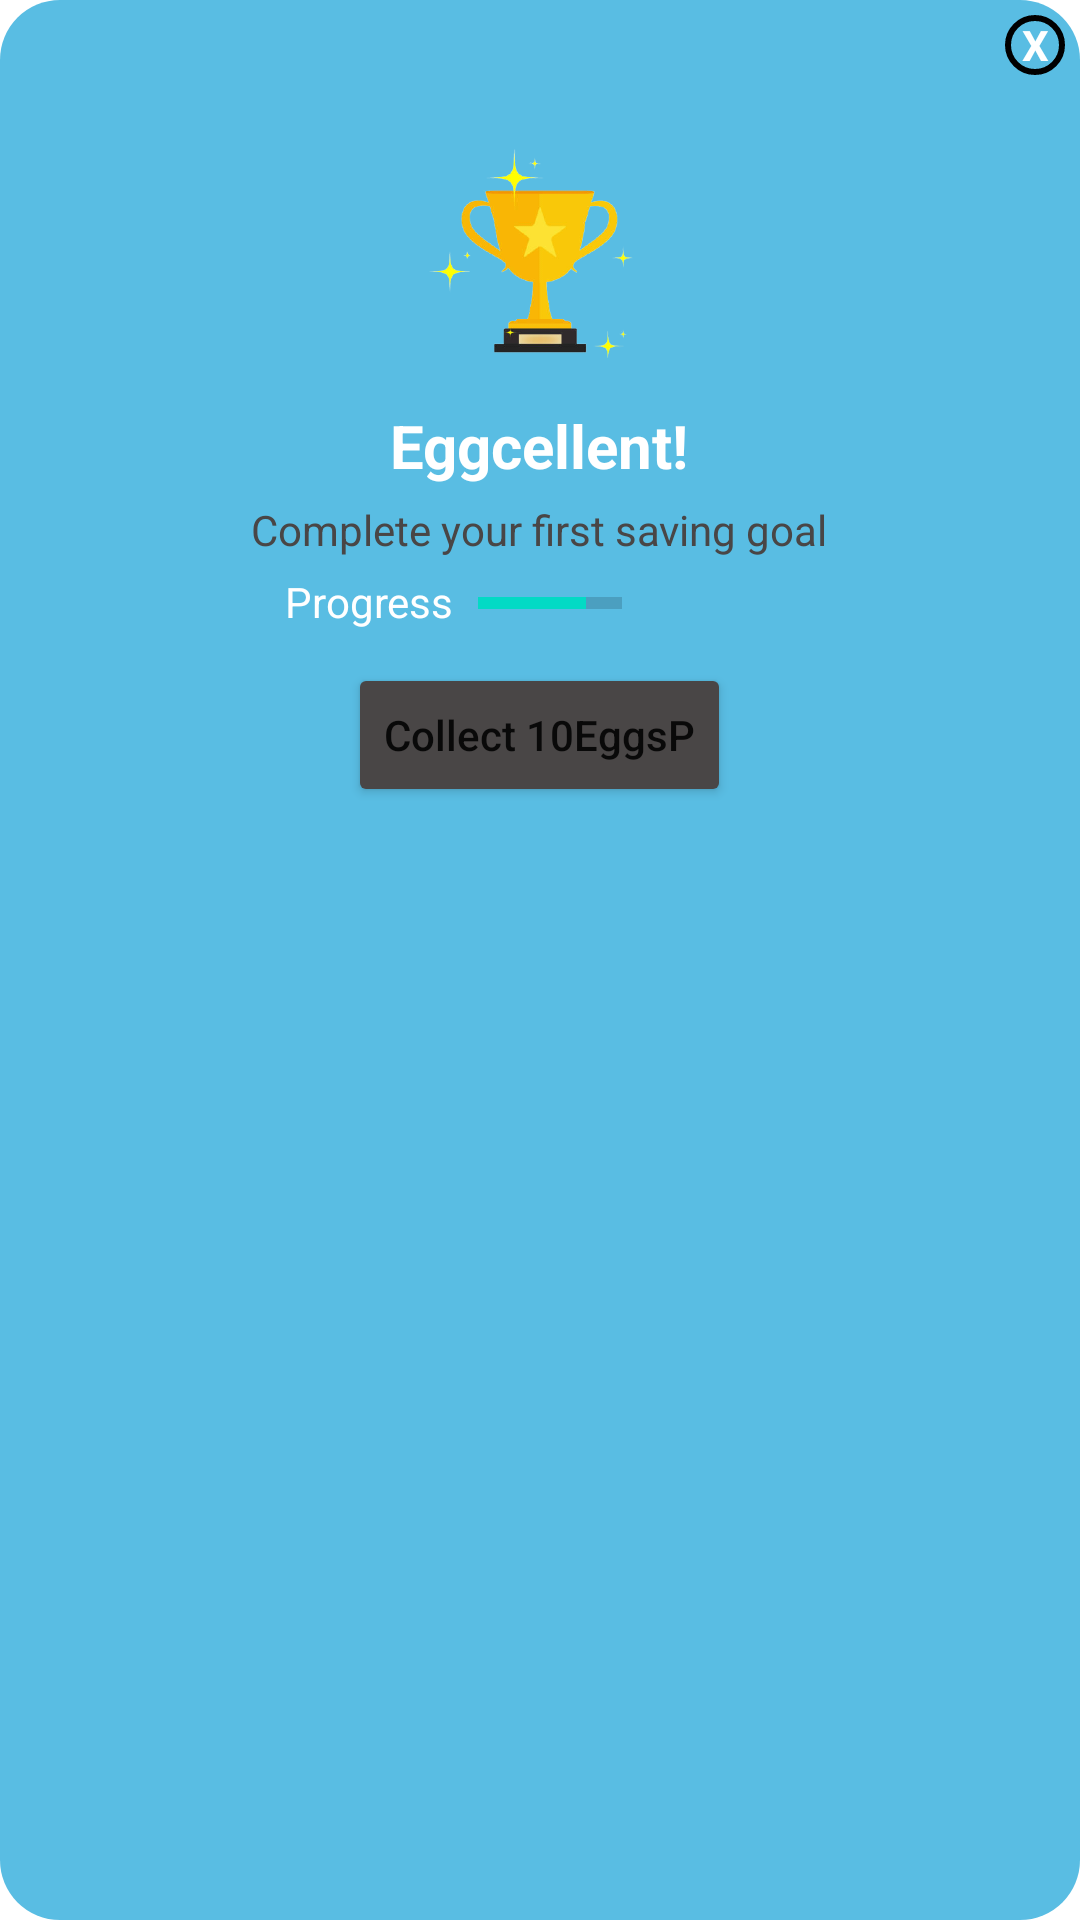

Icons on this 1080w x 1920h Android screen, each with its box as (left=x1, top=y1, right=x2, bottom=y2):
trophy: (left=430, top=150, right=632, bottom=358)
